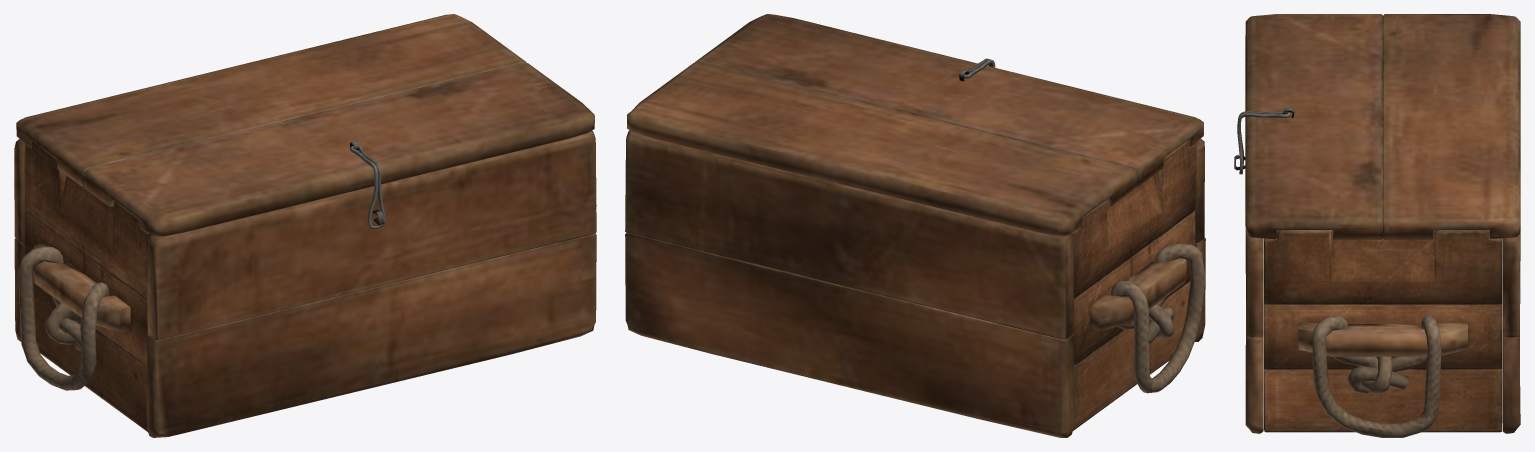
Rendered from wooden_crate_01.glb.
3 renders of one model, left to right at view 1: azimuth 30°, elevation 25°; view 2: azimuth 150°, elevation 25°; view 3: azimuth 270°, elevation 25°, orthographic. The views are drawn at different scales.
Visible parts, largest first — view 1: wooden_crate_01, wooden_crate_01_lid, wooden_crate_01_latch; view 2: wooden_crate_01, wooden_crate_01_lid; view 3: wooden_crate_01_lid, wooden_crate_01, wooden_crate_01_latch.
Boxes of the visible parts, x1,y1,x2,y2 form: wooden_crate_01: [14, 131, 596, 437]; wooden_crate_01_lid: [16, 14, 594, 236]; wooden_crate_01_latch: [350, 145, 385, 229]; wooden_crate_01: [625, 130, 1205, 437]; wooden_crate_01_lid: [627, 14, 1203, 236]; wooden_crate_01_lid: [1245, 14, 1520, 239]; wooden_crate_01: [1234, 155, 1520, 437]; wooden_crate_01_latch: [1237, 111, 1290, 174].
Bounding box in the file's own units: 0.8245 × 0.3482 × 0.4072.
1 material, 1 textured.
